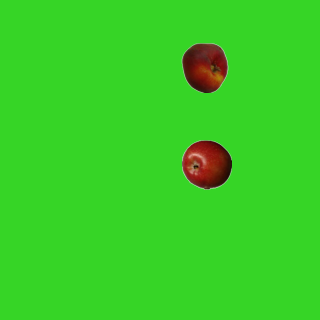Apple Braeburn: (181, 139, 231, 189)
Nectarine Flat: (179, 42, 229, 92)
